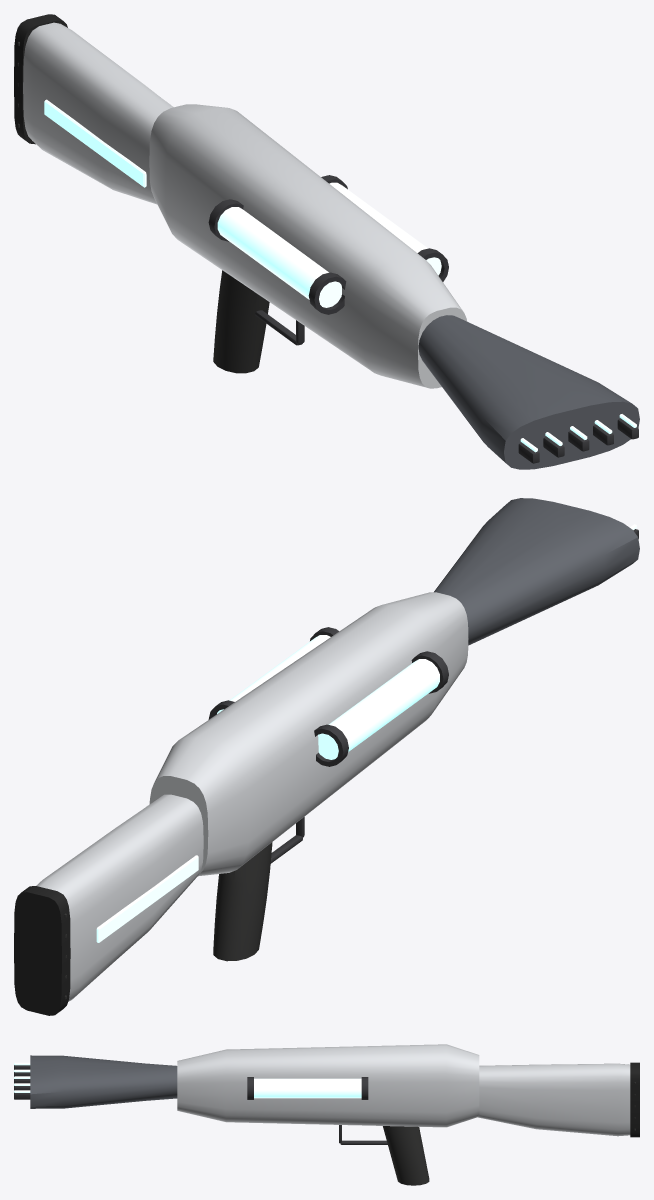
Rendered from phalanx.glb.
The picture shows the model from 3 angles, top to bottom: view 1: azimuth 30°, elevation 25°; view 2: azimuth 150°, elevation 25°; view 3: azimuth 270°, elevation 25°; orthographic projection. The views are drawn at different scales.
Parts seen in each view (by area): view 1: Body; view 2: Body; view 3: Body.
Boxes of the visible parts, <box> form: Body: <box>14,14,639,469</box>; Body: <box>14,498,639,1015</box>; Body: <box>14,1044,639,1185</box>.
Bounding box in the file's own units: 0.11 × 0.1777 × 0.767.
